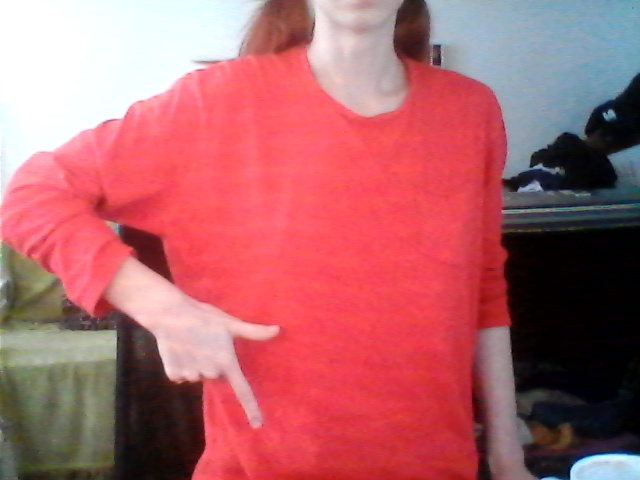policia: (123, 278, 303, 446)
